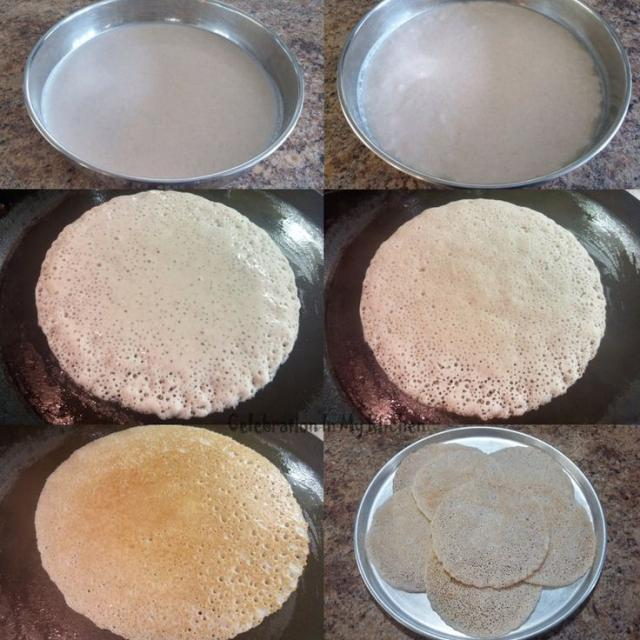DOSA: (360, 200, 605, 419)
RICE BHAKRI: (36, 426, 308, 639)
